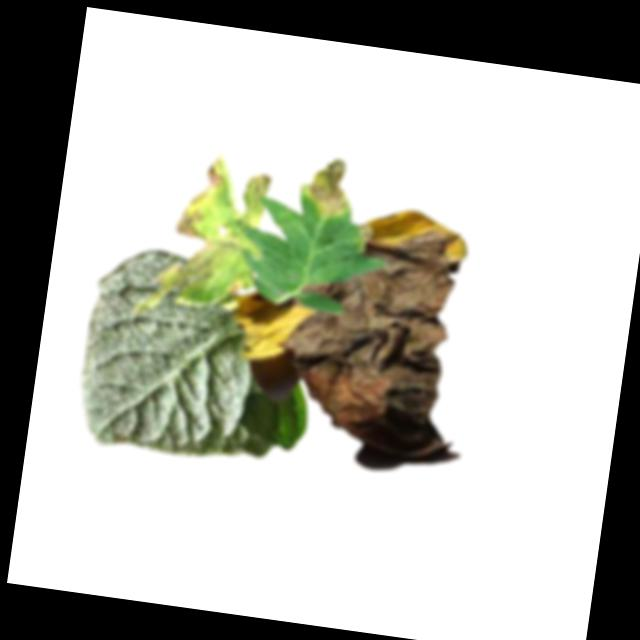Late_blight: (270, 193, 472, 440), (160, 150, 275, 305), (226, 281, 315, 365), (297, 154, 356, 223)
